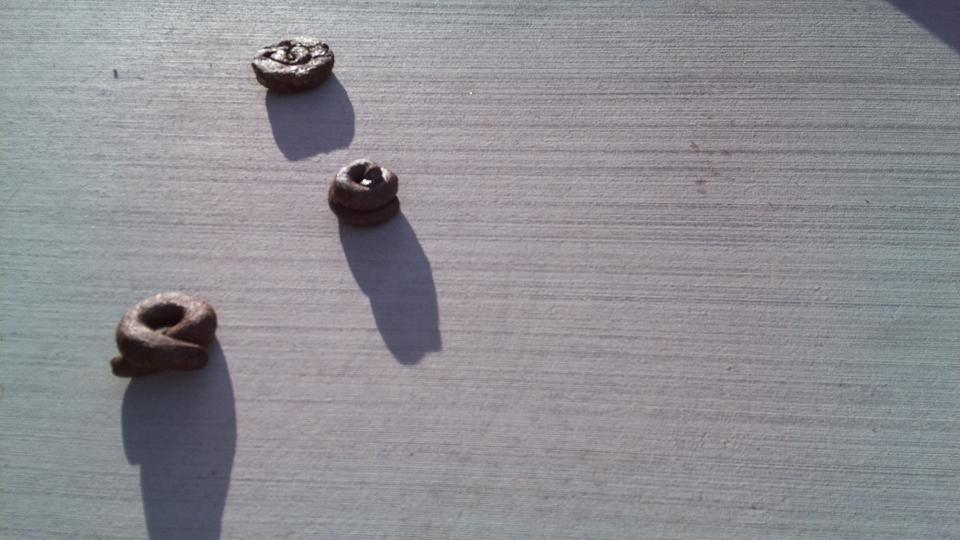poop: (106, 287, 219, 388), (324, 156, 405, 231), (248, 32, 337, 97)
